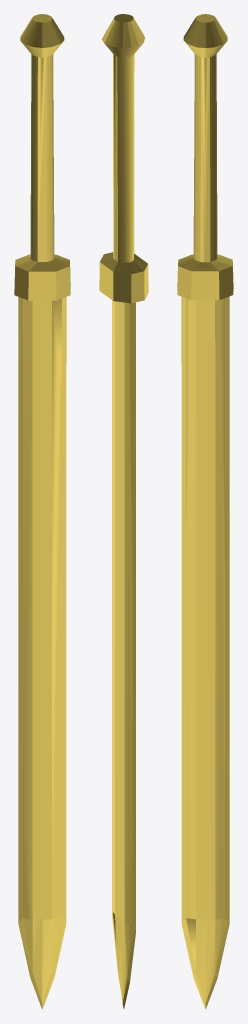
Rendered from Sword.obj.
3 renders of one model, left to right at view 1: azimuth 90°, elevation 25°; view 2: azimuth 210°, elevation 25°; view 3: azimuth 270°, elevation 25°, orthographic.
Visible parts, largest first — view 1: Sword_2; view 2: Sword_2; view 3: Sword_2.
Boxes of the visible parts, left/top/right/bottom form: Sword_2: left=14, top=14, right=70, bottom=1009; Sword_2: left=99, top=14, right=148, bottom=1008; Sword_2: left=177, top=14, right=233, bottom=1009.
Size of the model in its own units: 8.22 by 201 by 10.34.
